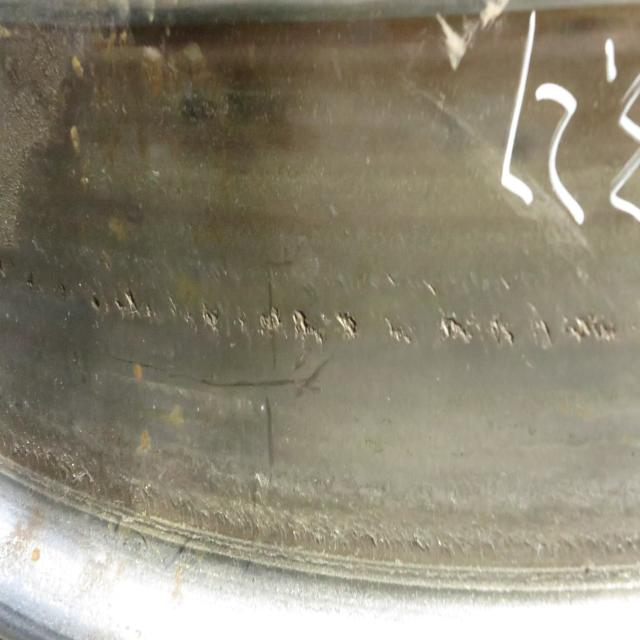Peeling: (564, 318, 615, 344), (294, 311, 324, 346), (116, 293, 152, 319), (492, 316, 515, 349), (442, 317, 470, 343), (389, 319, 412, 347), (537, 317, 554, 350), (337, 315, 358, 339), (260, 309, 281, 332), (203, 306, 220, 333), (92, 296, 100, 313), (239, 319, 247, 333)
